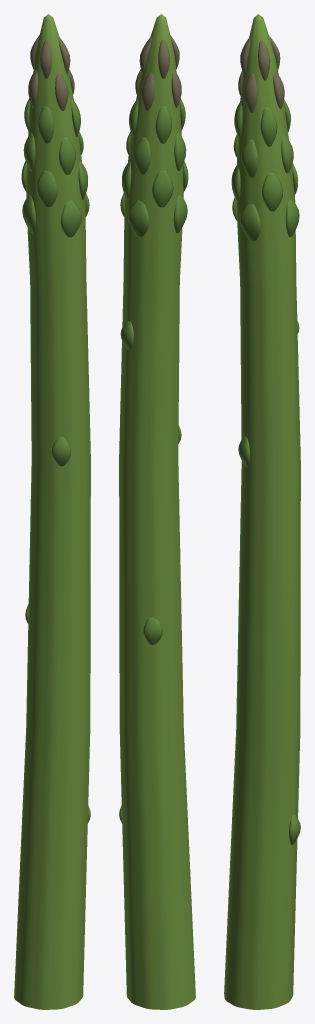
3 views of the same model, side by side, from view 1: azimuth 30°, elevation 25°; view 2: azimuth 150°, elevation 25°; view 3: azimuth 330°, elevation 25° (orthographic).
Parts seen in each view (by area): view 1: Continuous harvested stalk and bud core, Pointed attached scale 6, Pointed attached scale 3, Pointed attached scale 11, Pointed attached scale 14, Pointed attached scale 26, Pointed attached scale 19, Pointed attached scale 2, Pointed attached scale 22, Pointed attached scale 10, Pointed attached scale 18, Pointed attached scale 7 (+2 smaller); view 2: Continuous harvested stalk and bud core, Pointed attached scale 5, Pointed attached scale 1, Pointed attached scale 9, Pointed attached scale 13, Pointed attached scale 25, Pointed attached scale 17, Pointed attached scale 2, Pointed attached scale 21, Pointed attached scale 10, Pointed attached scale 27, Pointed attached scale 18 (+3 smaller); view 3: Continuous harvested stalk and bud core, Pointed attached scale 7, Pointed attached scale 3, Pointed attached scale 11, Pointed attached scale 15, Pointed attached scale 0, Pointed attached scale 19, Pointed attached scale 23, Pointed attached scale 8, Pointed attached scale 16, Pointed attached scale 26, Pointed attached scale 6 (+3 smaller).
Boxes of the visible parts, x1,y1,x2,y2 form: Continuous harvested stalk and bud core: [14, 14, 90, 1009]; Pointed attached scale 6: [36, 170, 57, 207]; Pointed attached scale 3: [60, 200, 81, 237]; Pointed attached scale 11: [59, 137, 75, 174]; Pointed attached scale 14: [37, 106, 54, 143]; Pointed attached scale 26: [51, 436, 70, 466]; Pointed attached scale 19: [55, 72, 68, 110]; Pointed attached scale 2: [22, 195, 36, 233]; Pointed attached scale 22: [40, 39, 51, 78]; Pointed attached scale 10: [23, 133, 35, 171]; Pointed attached scale 18: [28, 69, 38, 107]; Pointed attached scale 7: [78, 161, 87, 199]; Continuous harvested stalk and bud core: [119, 14, 195, 1009]; Pointed attached scale 5: [152, 170, 173, 207]; Pointed attached scale 1: [128, 200, 149, 237]; Pointed attached scale 9: [134, 137, 150, 174]; Pointed attached scale 13: [155, 106, 172, 143]; Pointed attached scale 25: [143, 617, 162, 644]; Pointed attached scale 17: [141, 72, 154, 110]; Pointed attached scale 2: [173, 195, 187, 233]; Pointed attached scale 21: [158, 39, 169, 78]; Pointed attached scale 10: [174, 133, 186, 171]; Pointed attached scale 27: [120, 320, 133, 350]; Pointed attached scale 18: [171, 69, 181, 107]; Continuous harvested stalk and bud core: [224, 14, 300, 1009]; Pointed attached scale 7: [262, 172, 283, 211]; Pointed attached scale 3: [240, 204, 260, 241]; Pointed attached scale 11: [241, 139, 258, 177]; Pointed attached scale 15: [260, 107, 277, 146]; Pointed attached scale 0: [285, 199, 299, 236]; Pointed attached scale 19: [244, 73, 257, 112]; Pointed attached scale 23: [258, 39, 270, 80]; Pointed attached scale 8: [281, 135, 293, 173]; Pointed attached scale 16: [273, 71, 284, 108]; Pointed attached scale 26: [238, 436, 250, 466]; Pointed attached scale 6: [231, 164, 240, 202].
Size of the model in its own units: 0.0163 by 0.22 by 0.0141.
